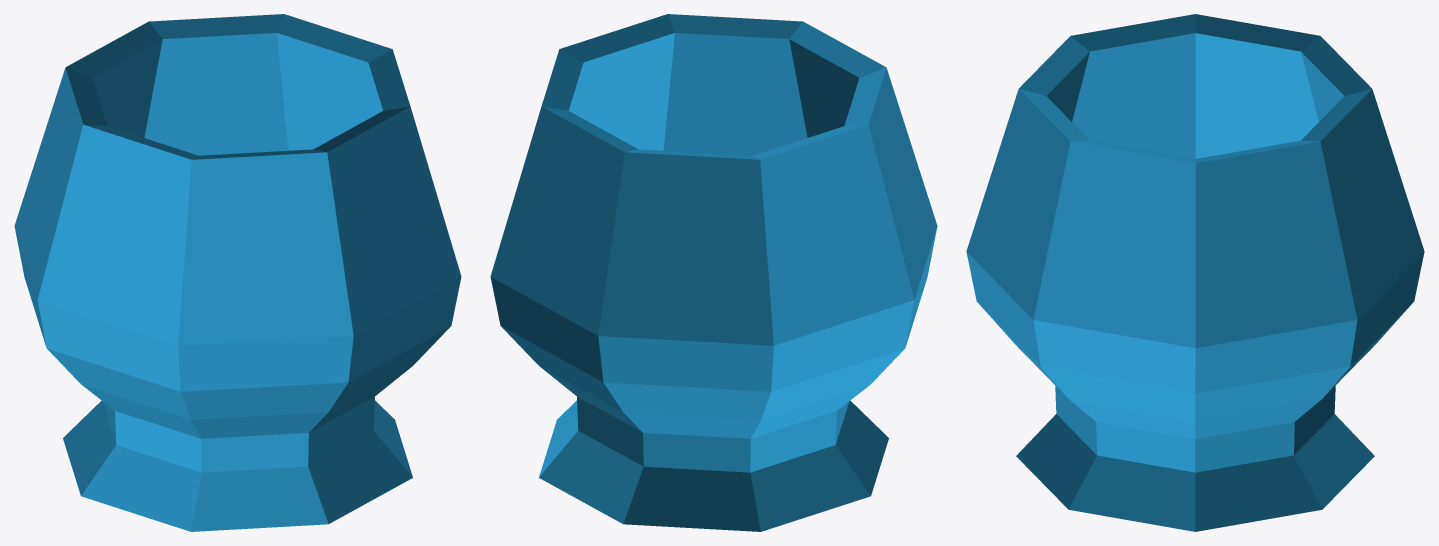
The model's file is Cup 9.fbx.
3 renders of one model, left to right at view 1: azimuth 30°, elevation 25°; view 2: azimuth 150°, elevation 25°; view 3: azimuth 270°, elevation 25°, orthographic.
Visible parts, largest first — view 1: Node 0; view 2: Node 0; view 3: Node 0.
Part boxes in pixels (x1,y1,x2,y2): Node 0: (14, 14, 461, 531); Node 0: (490, 14, 937, 531); Node 0: (966, 14, 1424, 531).
Bounding box in the file's own units: 0.2272 × 0.201 × 0.2272.
